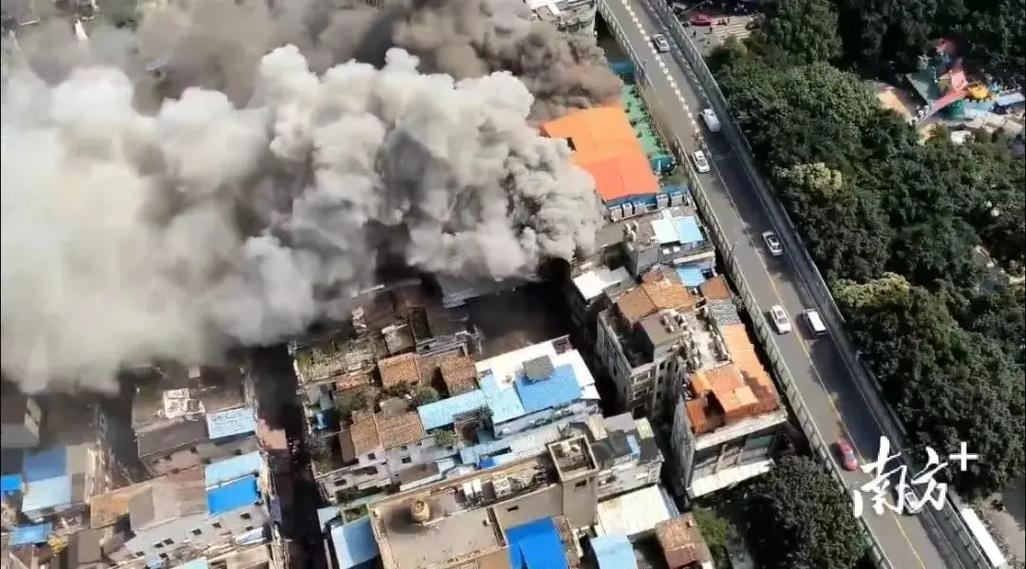fire: (2, 2, 605, 393)
